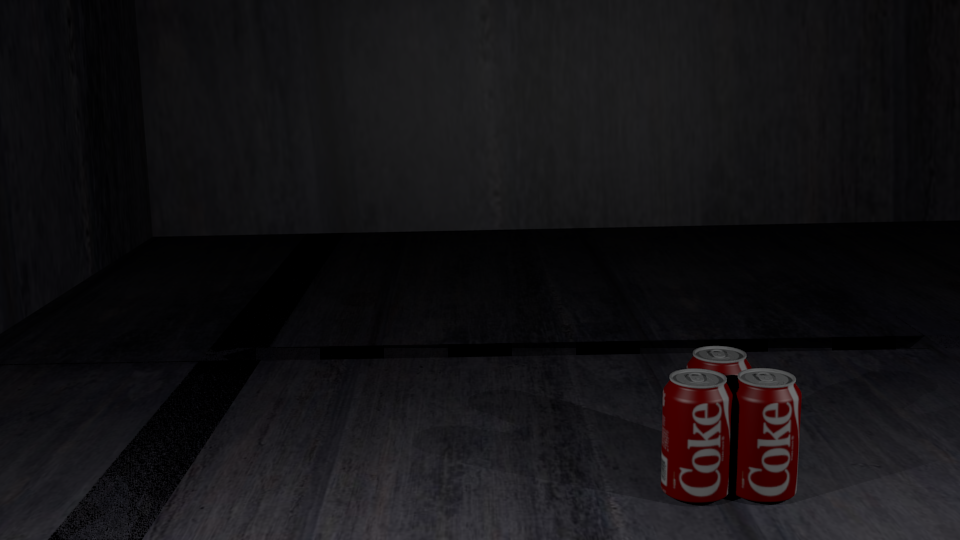cola_can: (730, 368, 801, 497), (662, 369, 732, 499), (688, 346, 751, 468)
